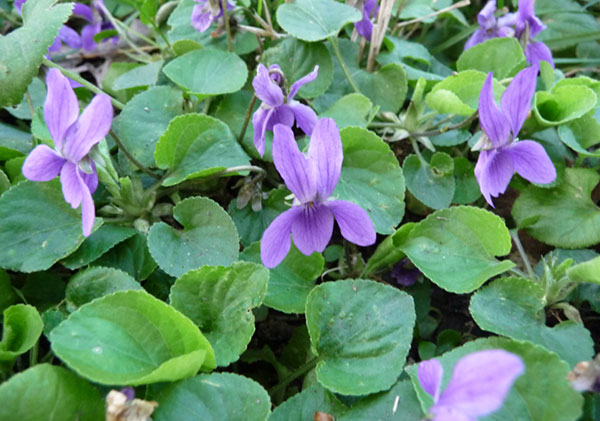violet: (251, 125, 371, 263), (469, 64, 565, 198), (391, 337, 529, 421), (36, 69, 110, 202)
